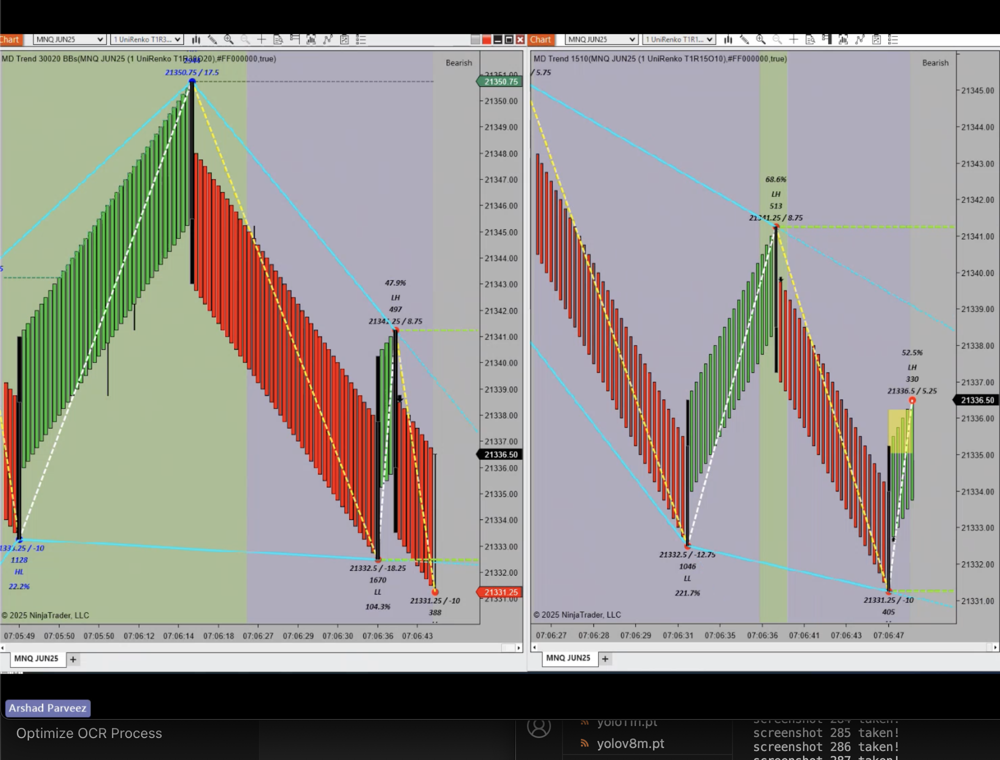HL: (8, 562, 35, 582)
LH: (902, 357, 927, 377), (384, 289, 409, 305), (768, 186, 790, 204)
LL: (677, 572, 701, 590), (366, 584, 390, 599)
